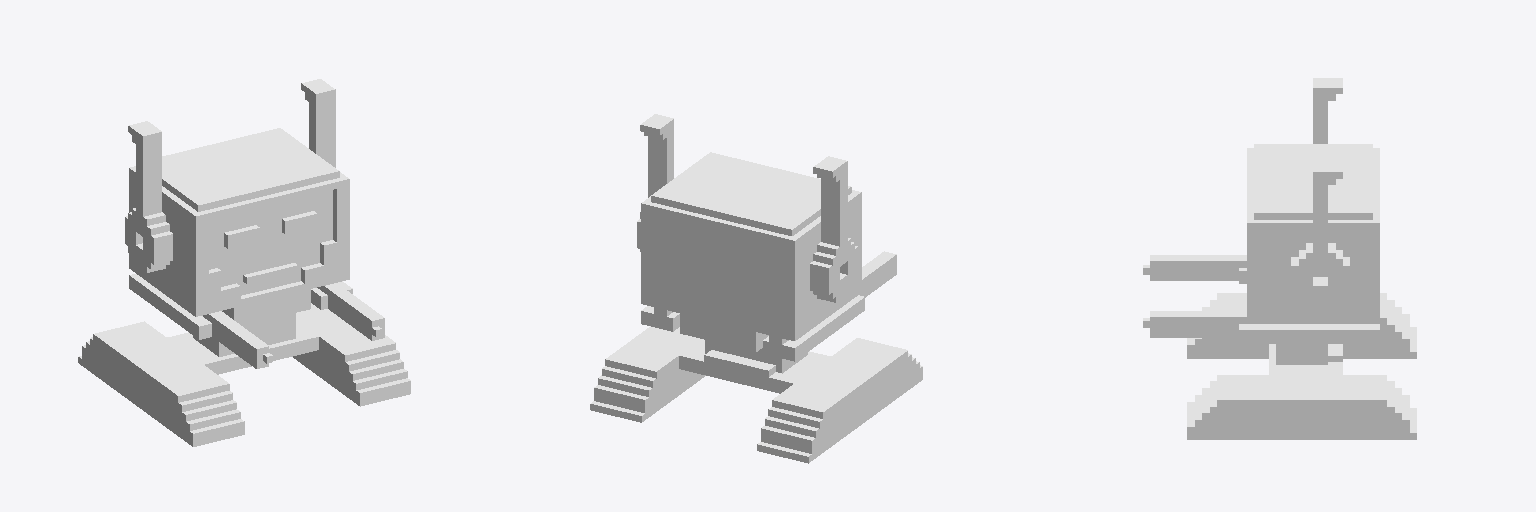
The model's file is enemy_2_Robot.obj.
3 views of the same model, side by side, from view 1: azimuth 30°, elevation 25°; view 2: azimuth 150°, elevation 25°; view 3: azimuth 270°, elevation 25° (orthographic).
Visible parts, largest first — view 1: object 1; view 2: object 1; view 3: object 1.
Part boxes in pixels (bbox=[...]): object 1: bbox=[78, 79, 410, 446]; object 1: bbox=[590, 114, 922, 463]; object 1: bbox=[1143, 78, 1416, 439].
Bounding box in the file's own units: 3.4 × 3.9 × 3.7.